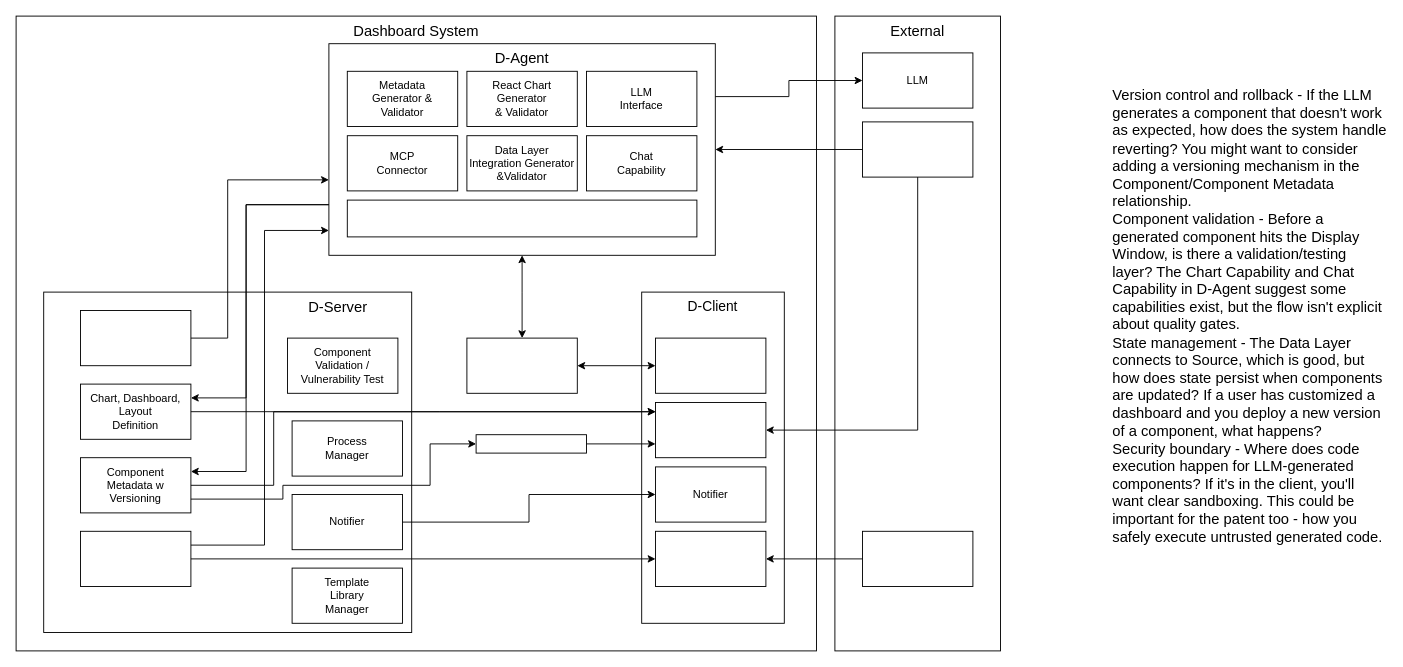
Image size: 1403x667. Some labels were removed from this diagram. The shapes that lost their labels are listed below. From the top down, each one's centre as x and y in pixels, then its label:
(917,149): Chart Library
(521,218): Context Memory
(135,338): Chart Spec
(521,365): Natural Language Request
(710,365): Chat Interaction Widget
(530,443): RollBack
(710,430): Component Display Window
(135,558): Source Definition
(710,558): Data Layer
(917,558): Data Source
